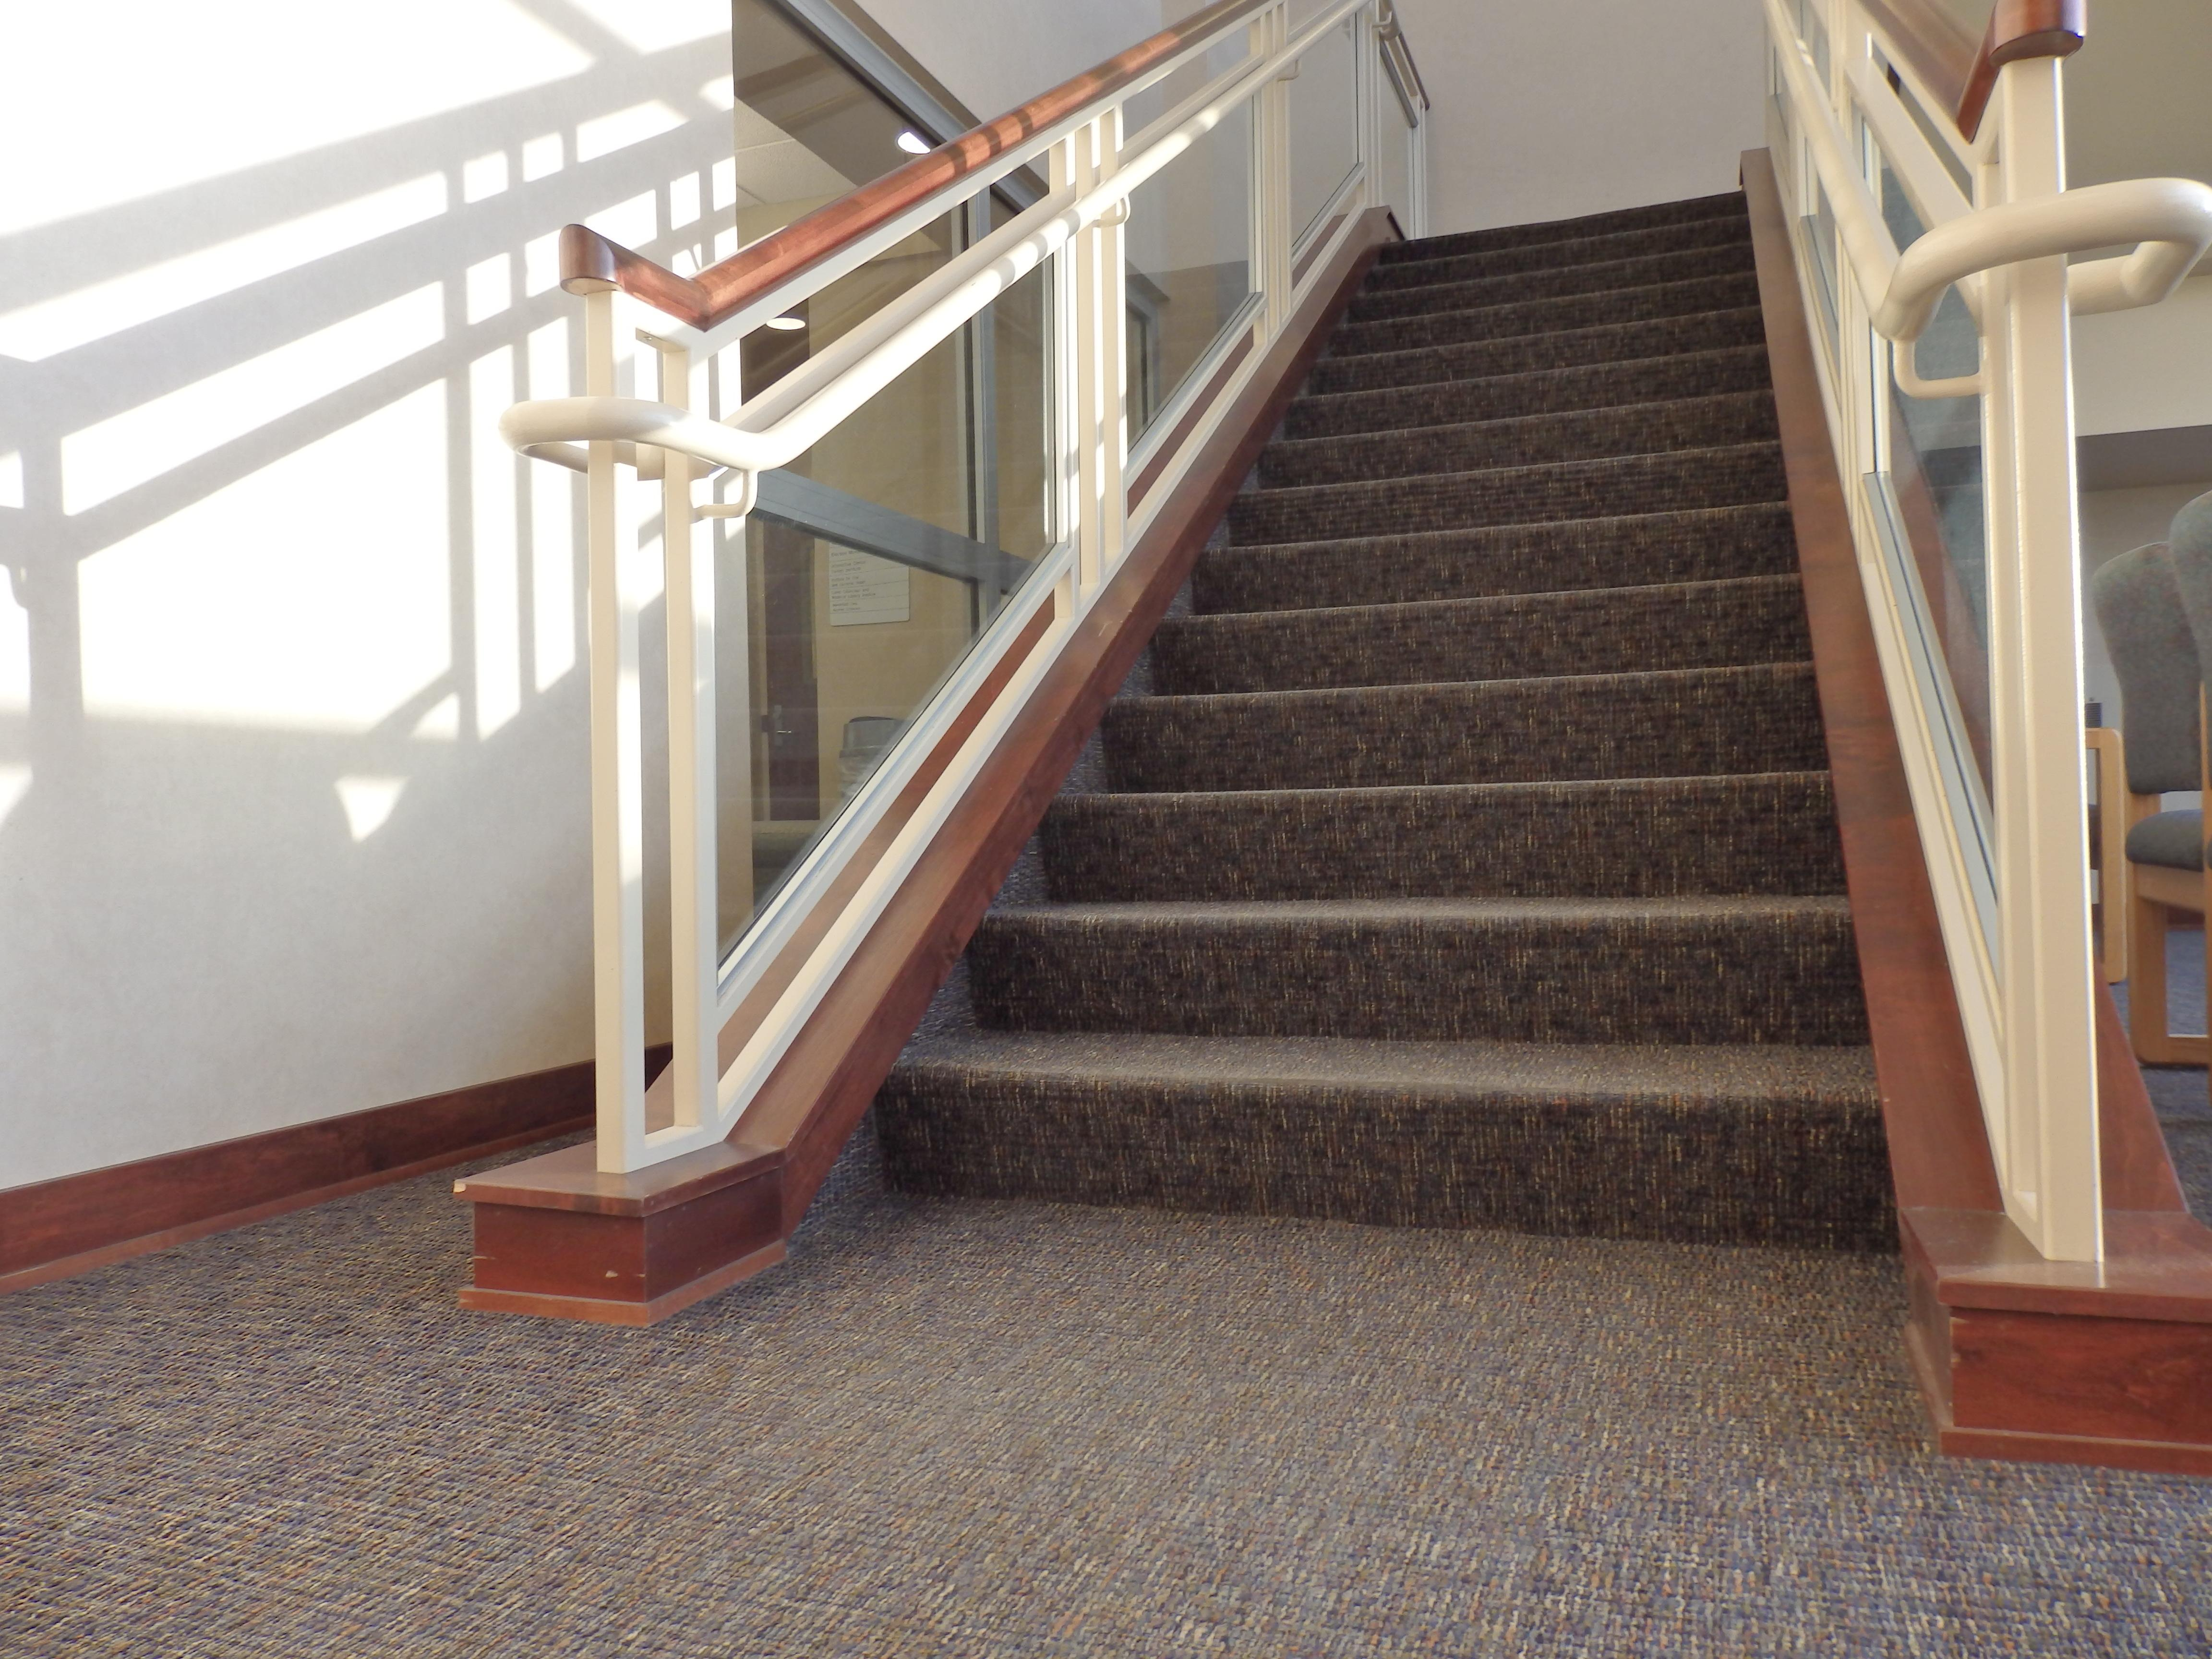stairs_up: (808, 108, 1851, 1359)
